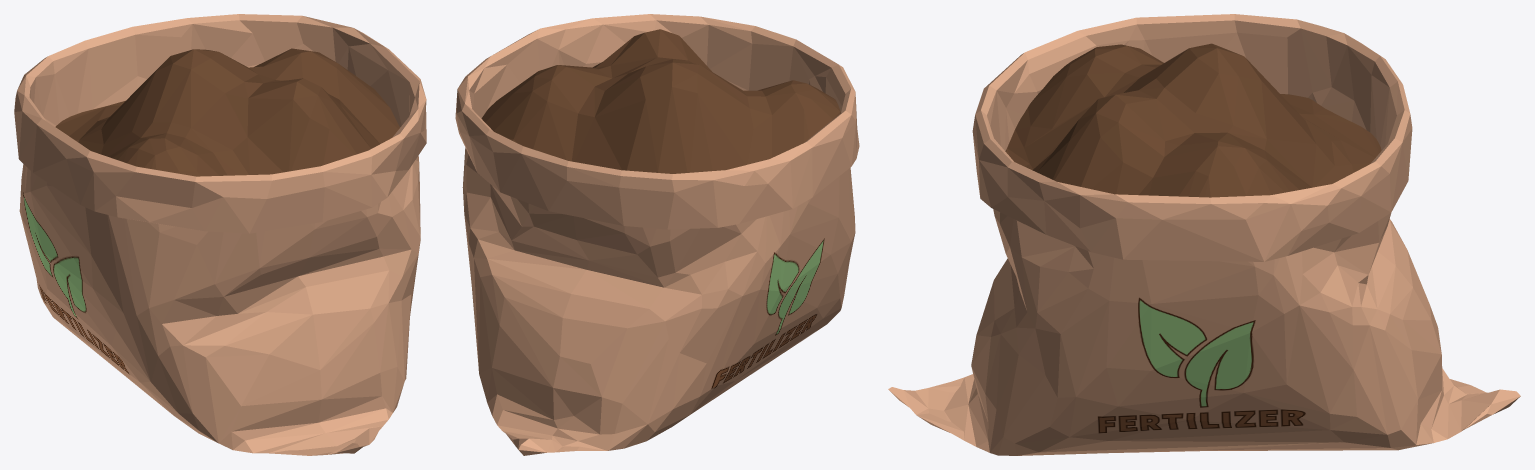
File: Pupuk (1).fbx
3 renders of one model, left to right at view 1: azimuth 30°, elevation 25°; view 2: azimuth 150°, elevation 25°; view 3: azimuth 270°, elevation 25°, orthographic. The views are drawn at different scales.
Visible parts, largest first — view 1: PupukLain.001; view 2: PupukLain.001; view 3: PupukLain.001.
Part boxes in pixels (<box>): PupukLain.001: <box>14,14,426,455</box>; PupukLain.001: <box>455,14,859,455</box>; PupukLain.001: <box>888,14,1520,455</box>.
Size of the model in its own units: 35.03 by 30.39 by 49.28.
2 materials, 1 textured.
